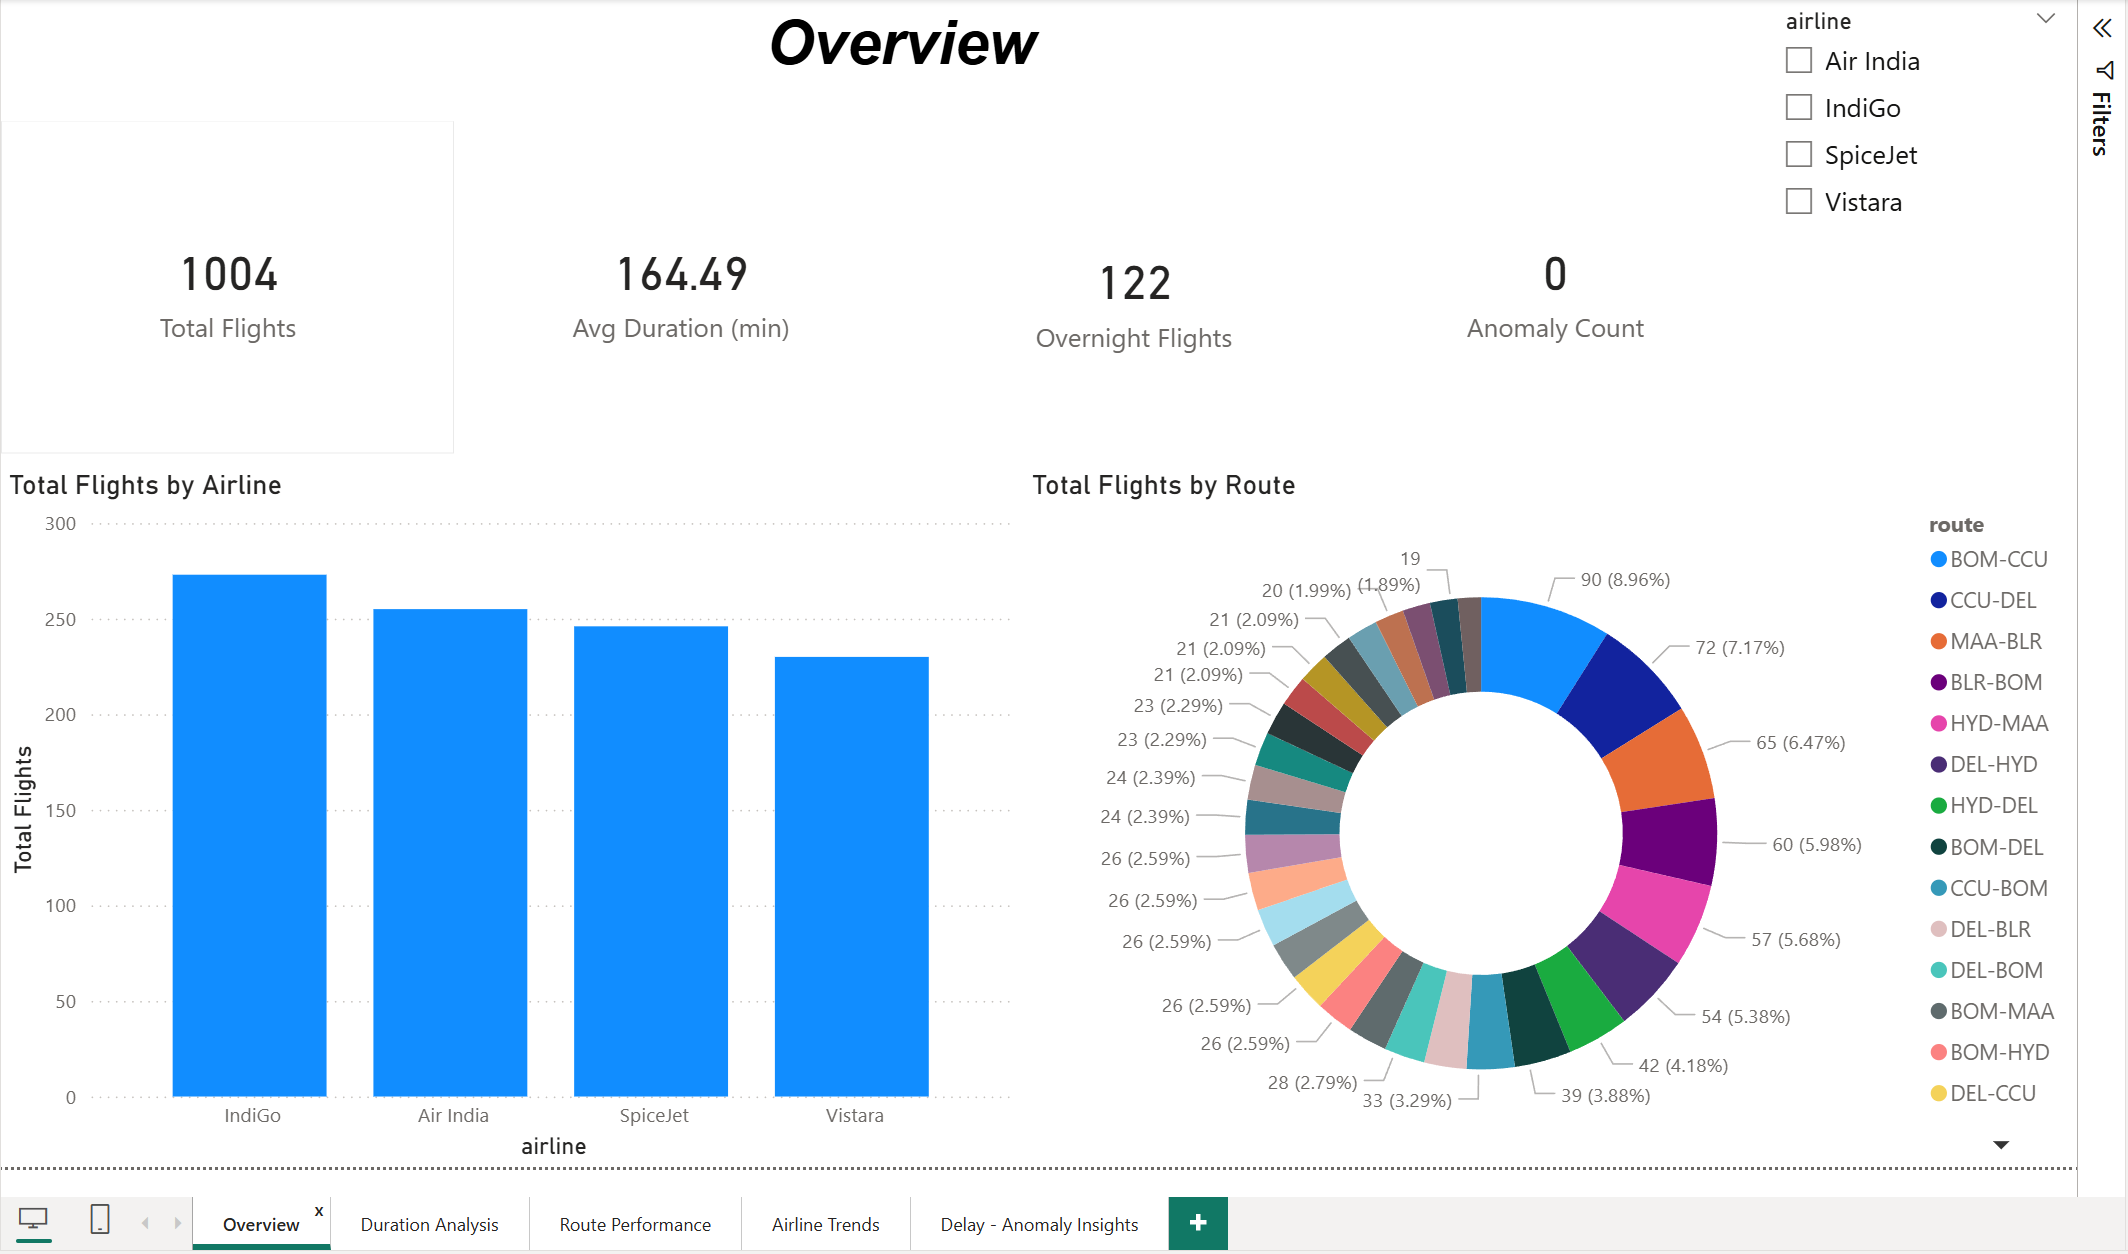

What the dashboard file says about the page in this screenshot:
{"tool":"powerbi","page":{"name":"Overview","canvas":[1280,720],"ordinal":0},"visuals":[{"type":"card","fields":{"Values":["flights_cleaned.Total Flights"]},"box":[0,75.3,279.3,205.1],"z":0},{"type":"card","fields":{"Values":["flights_cleaned.Avg Duration (min)"]},"box":[279.3,75.3,279.3,205.1],"z":1000},{"type":"card","fields":{"Values":["flights_cleaned.Overnight Flights"]},"box":[558.5,85.7,279.3,194.7],"z":2000},{"type":"card","fields":{"Values":["flights_cleaned.Anomaly Count"]},"box":[818.1,75.3,279.3,205.1],"z":3000},{"type":"clusteredColumnChart","title":"Total Flights by Airline","fields":{"Category":["flights_cleaned.airline"],"Y":["flights_cleaned.Total Flights"]},"box":[0,289.7,630.3,429.9],"z":4000},{"type":"donutChart","title":"Total Flights by Route","fields":{"Y":["flights_cleaned.Total Flights"],"Category":["flights_cleaned.route"]},"box":[630.3,289.7,650,429.9],"z":5000},{"type":"slicer","fields":{"Values":["flights_cleaned.airline"]},"box":[1088,0,192.3,280.4],"z":6000},{"type":"textbox","box":[0,0,1088,75.3],"z":7001}]}

Visuals, with their boxes on the page's 1280x720 design canvas (x1, y1, x2, y2). These are canvas units, not pixel positions in the 2128x1254 screenshot, which may show the page scaled, cropped or inside an application window:
card - flights_cleaned.Total Flights: [0, 75, 279, 280]
card - flights_cleaned.Avg Duration (min): [279, 75, 559, 280]
card - flights_cleaned.Overnight Flights: [558, 86, 838, 280]
card - flights_cleaned.Anomaly Count: [818, 75, 1097, 280]
"Total Flights by Airline" clusteredColumnChart: [0, 290, 630, 720]
"Total Flights by Route" donutChart: [630, 290, 1280, 720]
slicer - flights_cleaned.airline: [1088, 0, 1280, 280]
textbox: [0, 0, 1088, 75]
